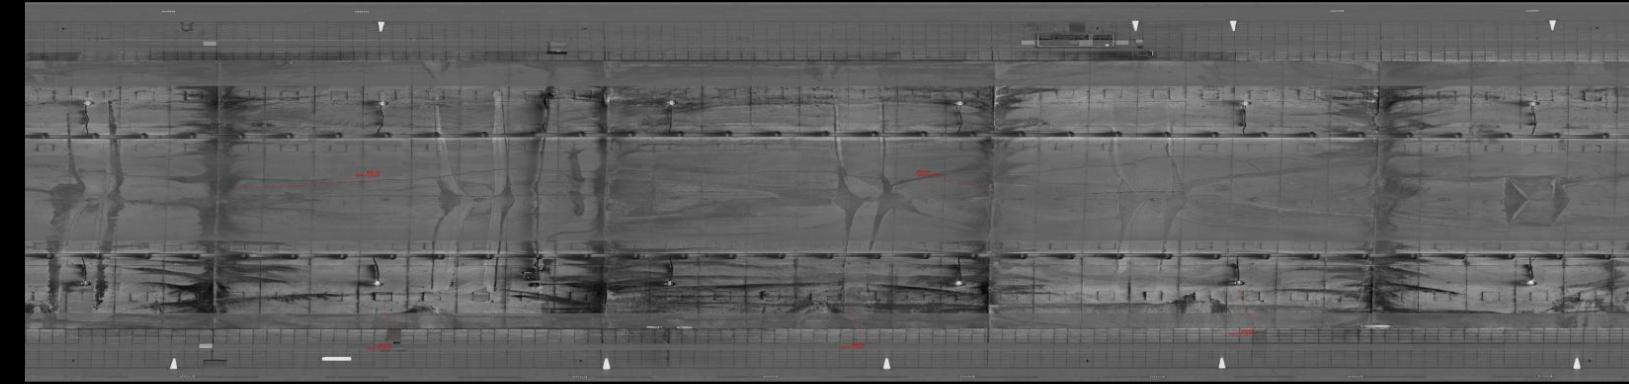light: (369, 97, 395, 110), (1521, 275, 1542, 291), (1522, 95, 1545, 108), (947, 97, 972, 108), (1227, 275, 1248, 289), (366, 275, 386, 289), (78, 95, 97, 109), (75, 275, 94, 289), (950, 276, 969, 289), (1232, 97, 1253, 108), (662, 98, 680, 109), (660, 278, 680, 287)
